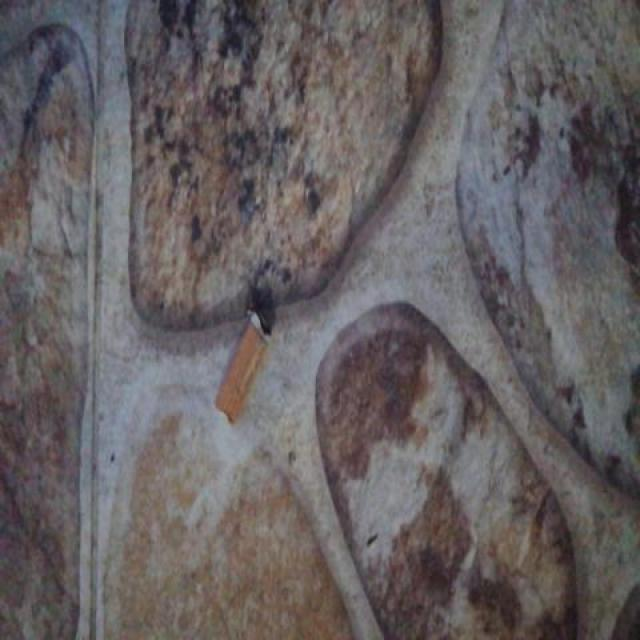non-organic waste: (210, 302, 281, 430)
